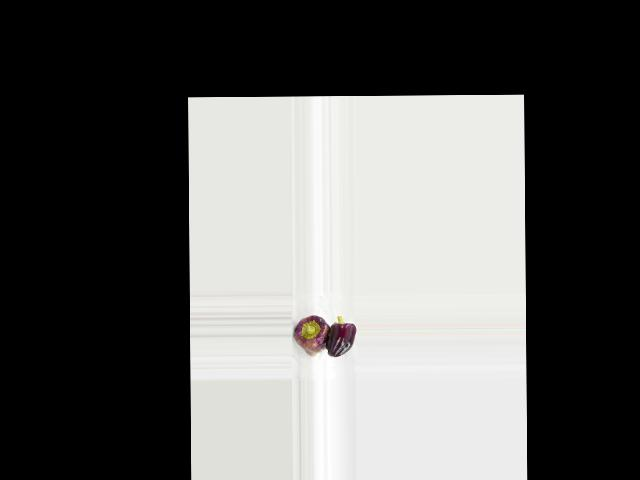bell_pepper: (292, 307, 330, 363)
